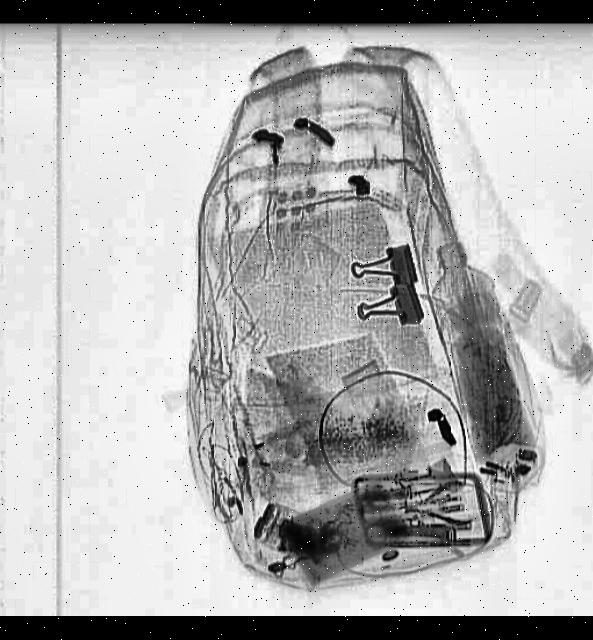Pliers: (388, 478, 468, 533)
